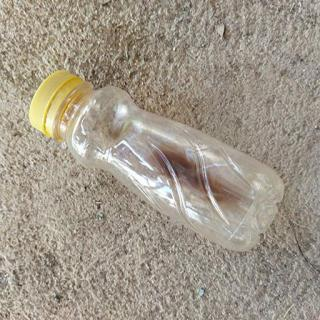Plastic-bottle: (29, 70, 286, 254)
